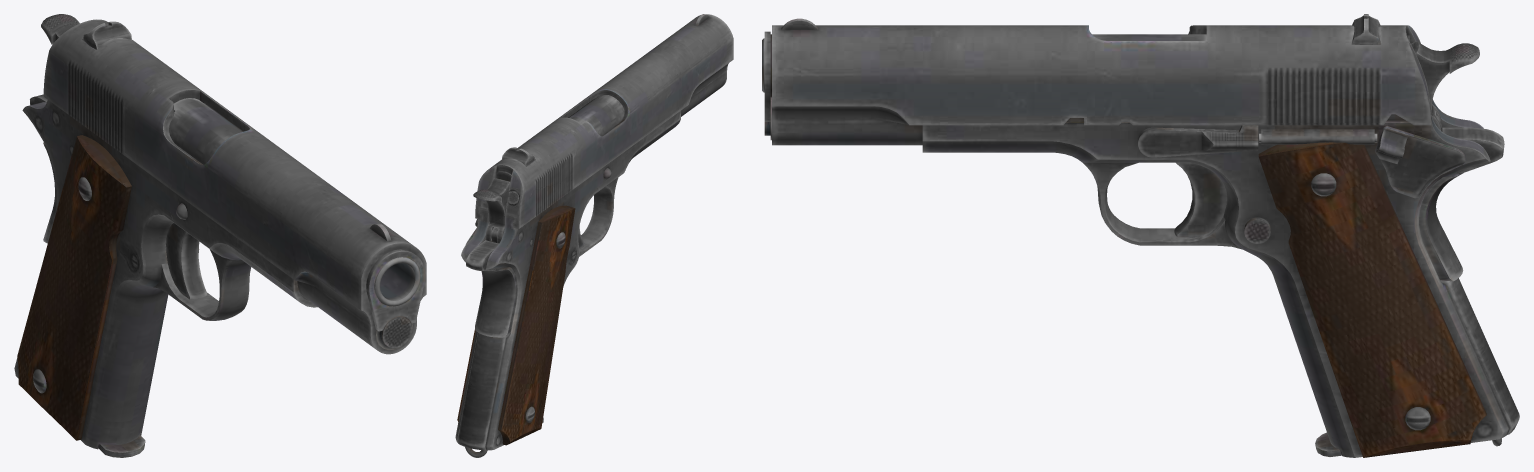
3 views of the same model, side by side, from view 1: azimuth 30°, elevation 25°; view 2: azimuth 150°, elevation 25°; view 3: azimuth 270°, elevation 25° (orthographic). The views are drawn at different scales.
Parts seen in each view (by area): view 1: Slide_low, Receiver_low, Grip_low, Barrel_low, Trigger_low, Front_Thing_2_low, Front_Thing_low, Rear_Sight_low, Hammer_low, Magazine_low, Screw_Grip_low, Back_Part_low; view 2: Slide_low, Receiver_low, Grip_low, Back_Part_low, Barrel_low, Hammer_low, Rear_Sight_low; view 3: Slide_low, Grip_1_low, Receiver_low, Lock_low, Back_Part_low, Disassembly_low, Trigger_low, Hammer_low, Thing_2_low, Screw_Grip_2_low, Barrel_low, Rear_Sight_low.
Boxes of the visible parts, x1,y1,x2,y2 form: Slide_low: [43, 19, 426, 354]; Receiver_low: [14, 100, 317, 449]; Grip_low: [17, 135, 131, 440]; Barrel_low: [169, 98, 420, 306]; Trigger_low: [166, 223, 207, 299]; Front_Thing_2_low: [366, 249, 425, 331]; Front_Thing_low: [375, 316, 412, 349]; Rear_Sight_low: [83, 21, 131, 49]; Hammer_low: [41, 14, 79, 44]; Magazine_low: [98, 435, 145, 457]; Screw_Grip_low: [33, 177, 91, 393]; Back_Part_low: [30, 94, 56, 243]; Slide_low: [475, 14, 733, 228]; Receiver_low: [455, 111, 680, 450]; Grip_low: [498, 205, 575, 445]; Back_Part_low: [466, 240, 517, 337]; Barrel_low: [569, 95, 624, 135]; Hammer_low: [473, 178, 510, 243]; Rear_Sight_low: [502, 147, 534, 166]; Slide_low: [772, 18, 1431, 145]; Grip_1_low: [1258, 142, 1486, 457]; Receiver_low: [922, 99, 1519, 457]; Lock_low: [1375, 126, 1465, 198]; Back_Part_low: [1419, 127, 1504, 281]; Disassembly_low: [1138, 125, 1258, 157]; Trigger_low: [1174, 162, 1226, 237]; Hammer_low: [1411, 41, 1479, 130]; Thing_2_low: [1261, 129, 1374, 144]; Screw_Grip_2_low: [1311, 173, 1430, 430]; Barrel_low: [762, 34, 1206, 92]; Rear_Sight_low: [1351, 14, 1380, 44].
Size of the model in its own units: 0.0392 by 0.1641 by 0.2611.
1 material, 1 textured.
